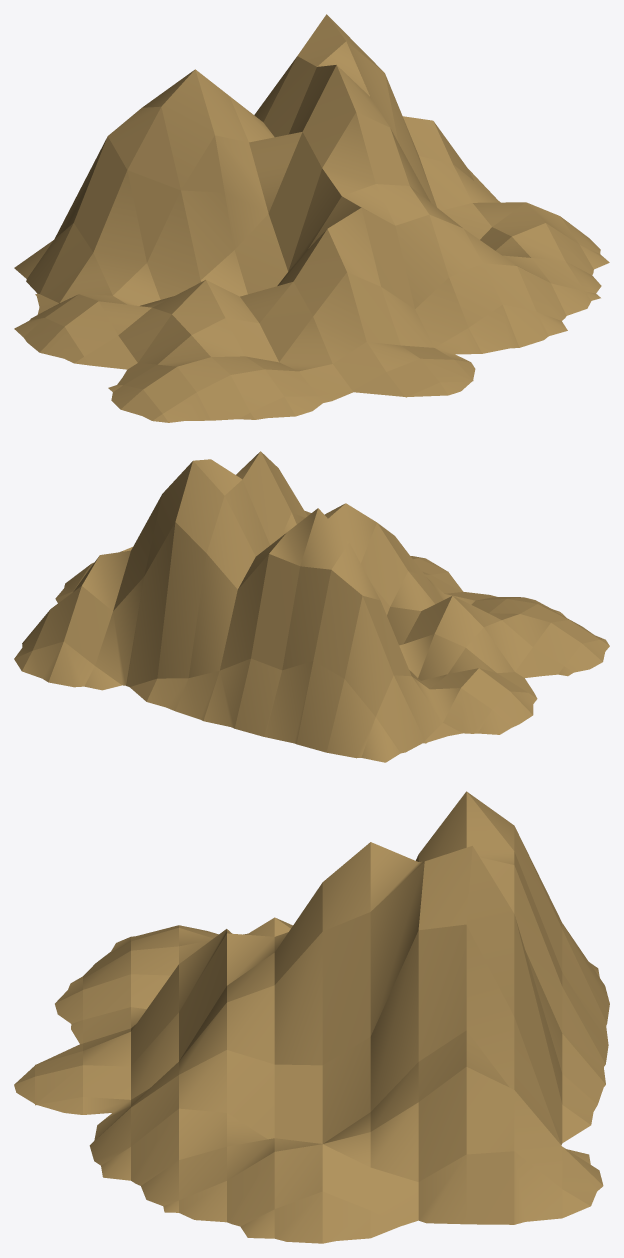
The model's file is Hill_Dirt_01.fbx.
3 renders of one model, top to bottom at view 1: azimuth 30°, elevation 25°; view 2: azimuth 150°, elevation 25°; view 3: azimuth 270°, elevation 25°, orthographic. The views are drawn at different scales.
Visible parts, largest first — view 1: Hill_Dirt_01; view 2: Hill_Dirt_01; view 3: Hill_Dirt_01.
Part boxes in pixels (x1=…): Hill_Dirt_01: x1=14, y1=14, x2=609, y2=422; Hill_Dirt_01: x1=14, y1=451, x2=609, y2=762; Hill_Dirt_01: x1=14, y1=791, x2=609, y2=1243.
Size of the model in its own units: 1870 by 770 by 1492.
